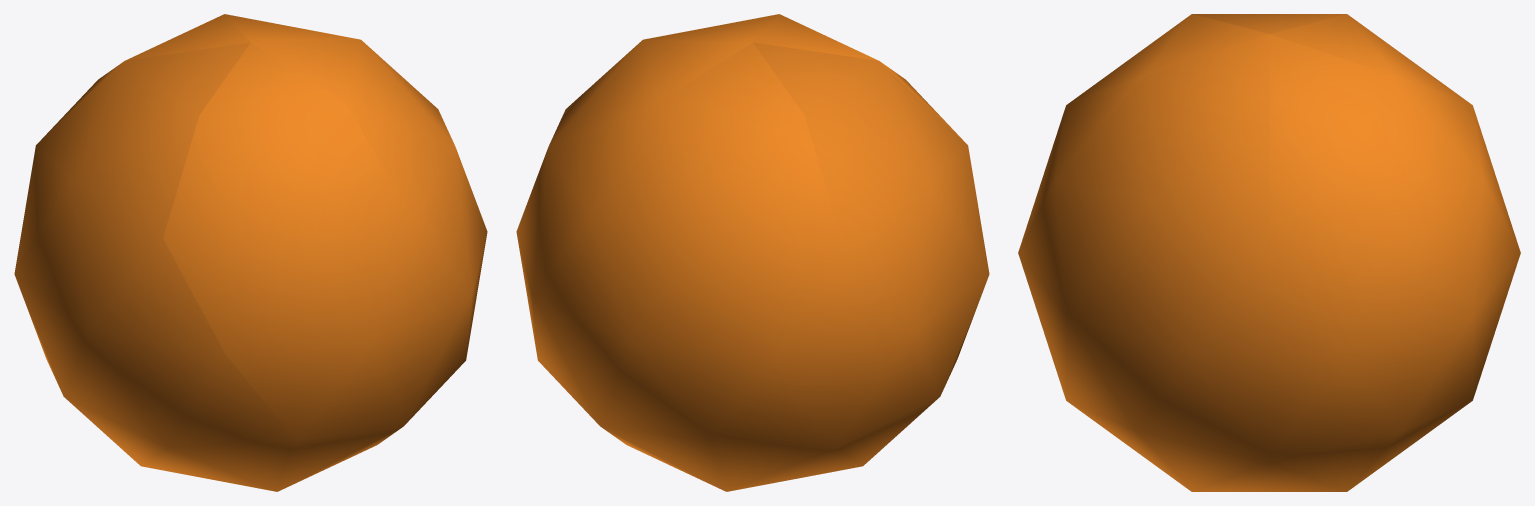
Rendered from jeruk.fbx.
3 renders of one model, left to right at view 1: azimuth 30°, elevation 25°; view 2: azimuth 150°, elevation 25°; view 3: azimuth 270°, elevation 25°, orthographic. The views are drawn at different scales.
Visible parts, largest first — view 1: jeruk; view 2: jeruk; view 3: jeruk.
Part boxes in pixels (x1,y1,x2,y2): jeruk: (14,14,487,491); jeruk: (516,14,989,491); jeruk: (1018,14,1520,491).
Size of the model in its own units: 190 by 192 by 200.
Materials: 1 (1 with a texture image).
